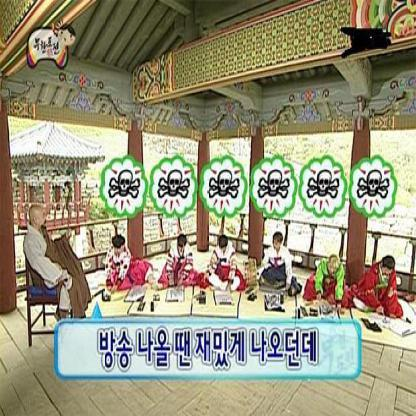skull: (256, 166, 294, 200), (107, 166, 142, 202), (156, 168, 191, 203), (306, 168, 339, 203), (356, 169, 391, 201), (208, 167, 240, 201)
